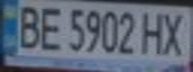0: (100, 7, 121, 55)
2: (118, 8, 142, 56)
5: (63, 5, 87, 53)
9: (81, 6, 103, 53)
B: (12, 1, 45, 51)
E: (33, 2, 63, 52)
H: (139, 8, 169, 56)
X: (157, 8, 193, 57)
